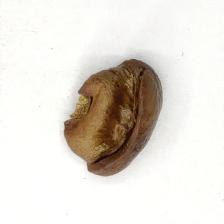NG: (66, 60, 144, 169)
